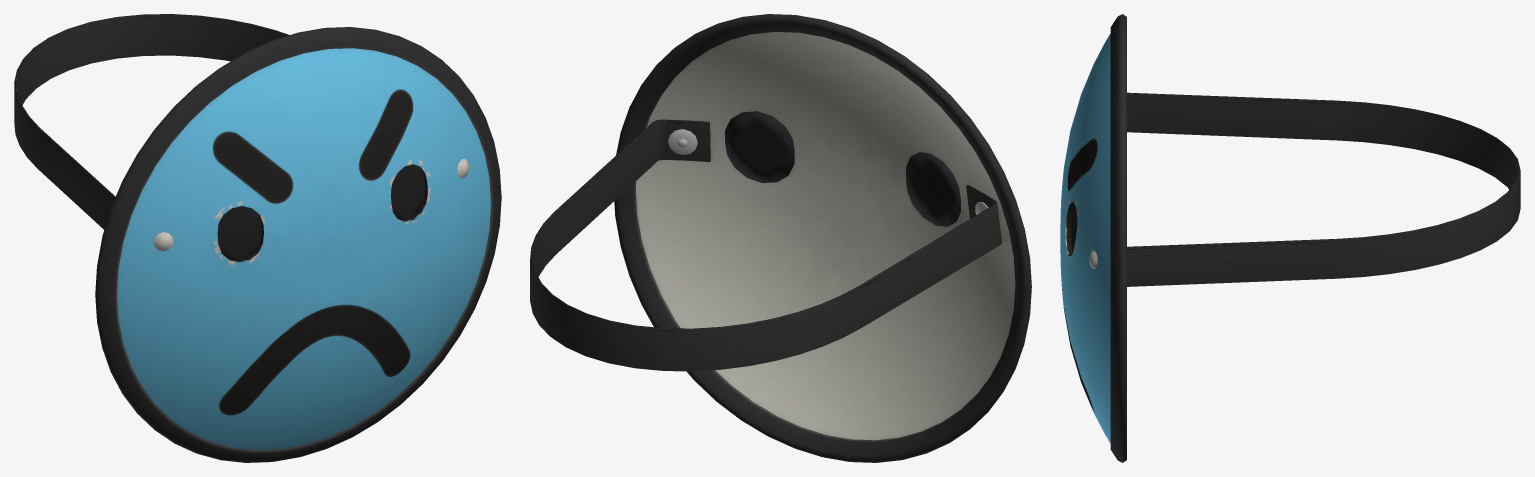
Rendered from frown_mask.glb.
3 views of the same model, side by side, from view 1: azimuth 30°, elevation 25°; view 2: azimuth 150°, elevation 25°; view 3: azimuth 270°, elevation 25° (orthographic). The views are drawn at different scales.
Visible parts, largest first — view 1: frown_mask; view 2: frown_mask; view 3: frown_mask.
Boxes of the visible parts, x1,y1,x2,y2 form: frown_mask: [14, 14, 501, 462]; frown_mask: [530, 14, 1031, 462]; frown_mask: [1060, 14, 1520, 462].
Bounding box in the file's own units: 0.21 × 0.21 × 0.215.
1 material, 1 textured.
